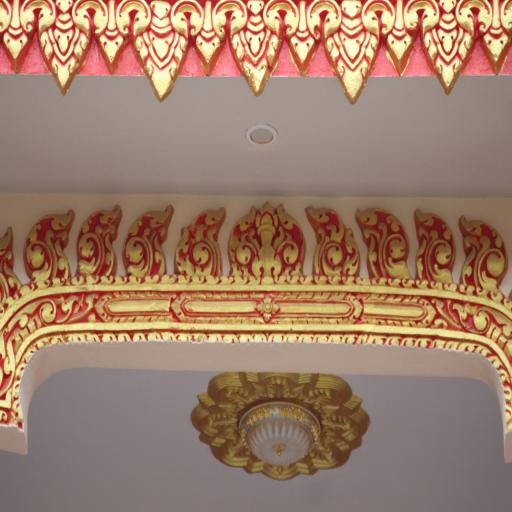hoa: (255, 292, 279, 326)
la: (120, 0, 206, 104), (308, 4, 396, 102), (214, 0, 298, 93), (35, 0, 100, 95), (409, 2, 481, 86), (72, 0, 152, 71), (231, 196, 300, 277), (262, 2, 340, 70), (173, 0, 244, 74), (366, 0, 434, 76), (0, 2, 46, 79), (464, 0, 512, 69)
lua: (461, 201, 511, 288), (358, 201, 412, 277), (73, 198, 121, 279), (310, 203, 361, 277), (124, 195, 170, 276), (30, 208, 78, 284), (174, 206, 220, 277), (417, 200, 455, 283), (0, 223, 25, 319)
